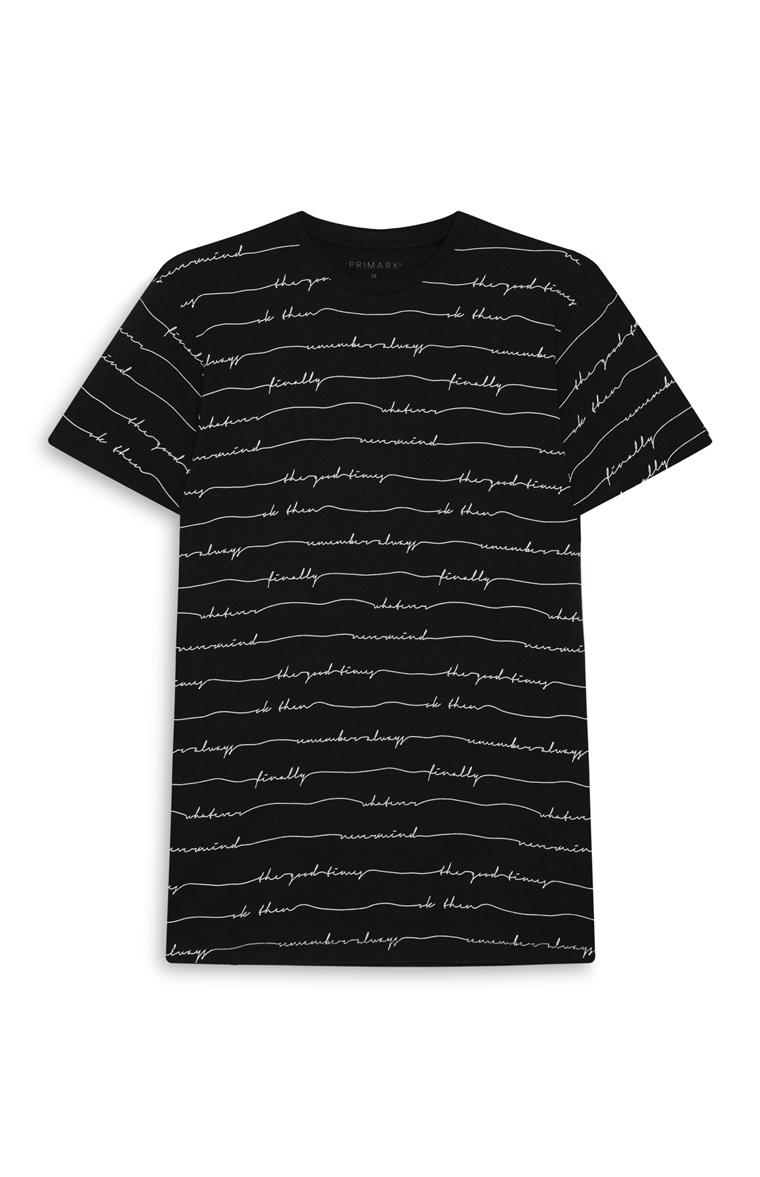teeshirt: (8, 8, 752, 1169)
